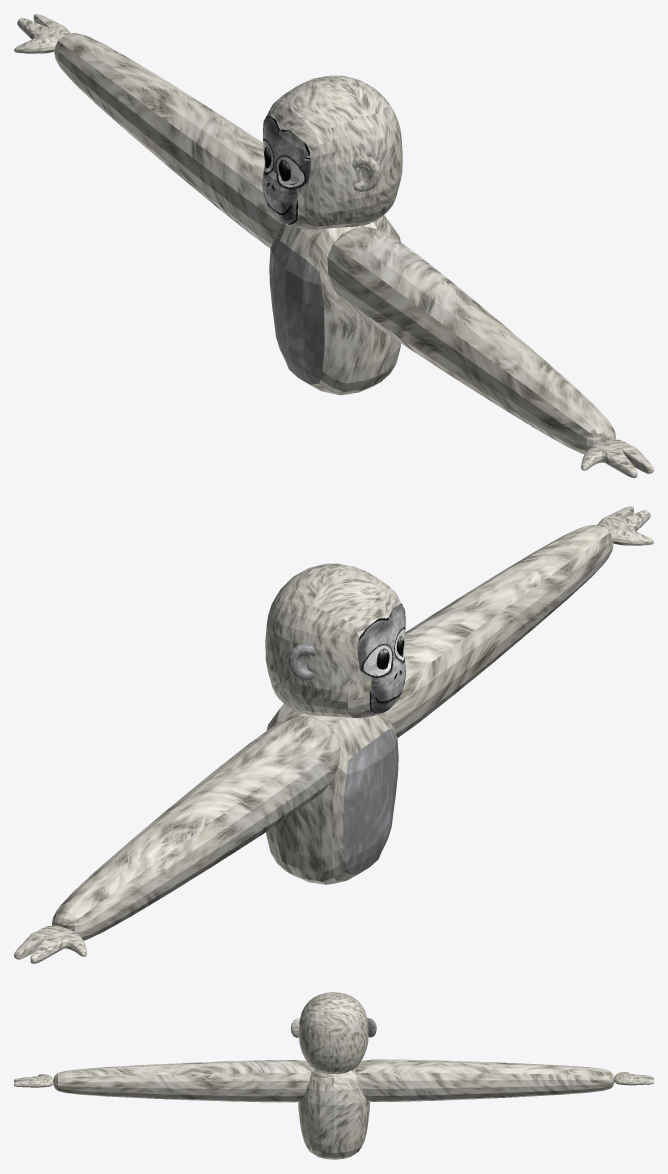
Rendered from fun_monke_horror_player_model.glb.
3 views of the same model, one above another, from view 1: azimuth 30°, elevation 25°; view 2: azimuth 150°, elevation 25°; view 3: azimuth 270°, elevation 25° (orthographic). The views are drawn at different scales.
Parts seen in each view (by area): view 1: Cube_white-fur-texture.001_0_4, Cube_fur_wight 1.001_0_6, Cube_IMG_3165.001_0_5; view 2: Cube_white-fur-texture.001_0_4, Cube_fur_wight 1.001_0_6, Cube_IMG_3165.001_0_5; view 3: Cube_white-fur-texture.001_0_4.
Part boxes in pixels (x1,y1,x2,y2): Cube_white-fur-texture.001_0_4: (14, 14, 653, 477); Cube_fur_wight 1.001_0_6: (269, 239, 324, 384); Cube_IMG_3165.001_0_5: (262, 115, 310, 224); Cube_white-fur-texture.001_0_4: (14, 506, 653, 963); Cube_fur_wight 1.001_0_6: (288, 643, 398, 873); Cube_IMG_3165.001_0_5: (357, 603, 405, 713); Cube_white-fur-texture.001_0_4: (14, 992, 653, 1159).
Bounding box in the file's own units: 1.77 × 4.05 × 14.87.
Materials: 3 (3 with a texture image).
